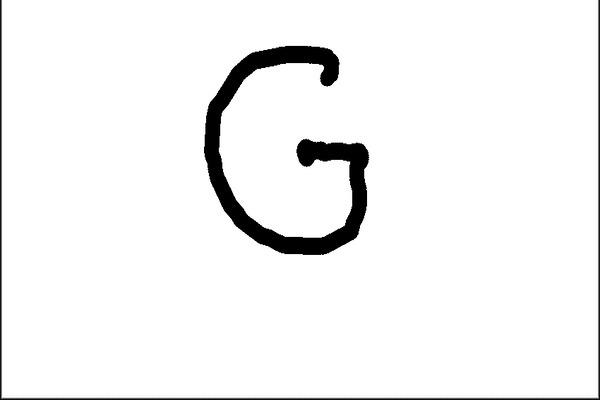G: (196, 41, 375, 261)
